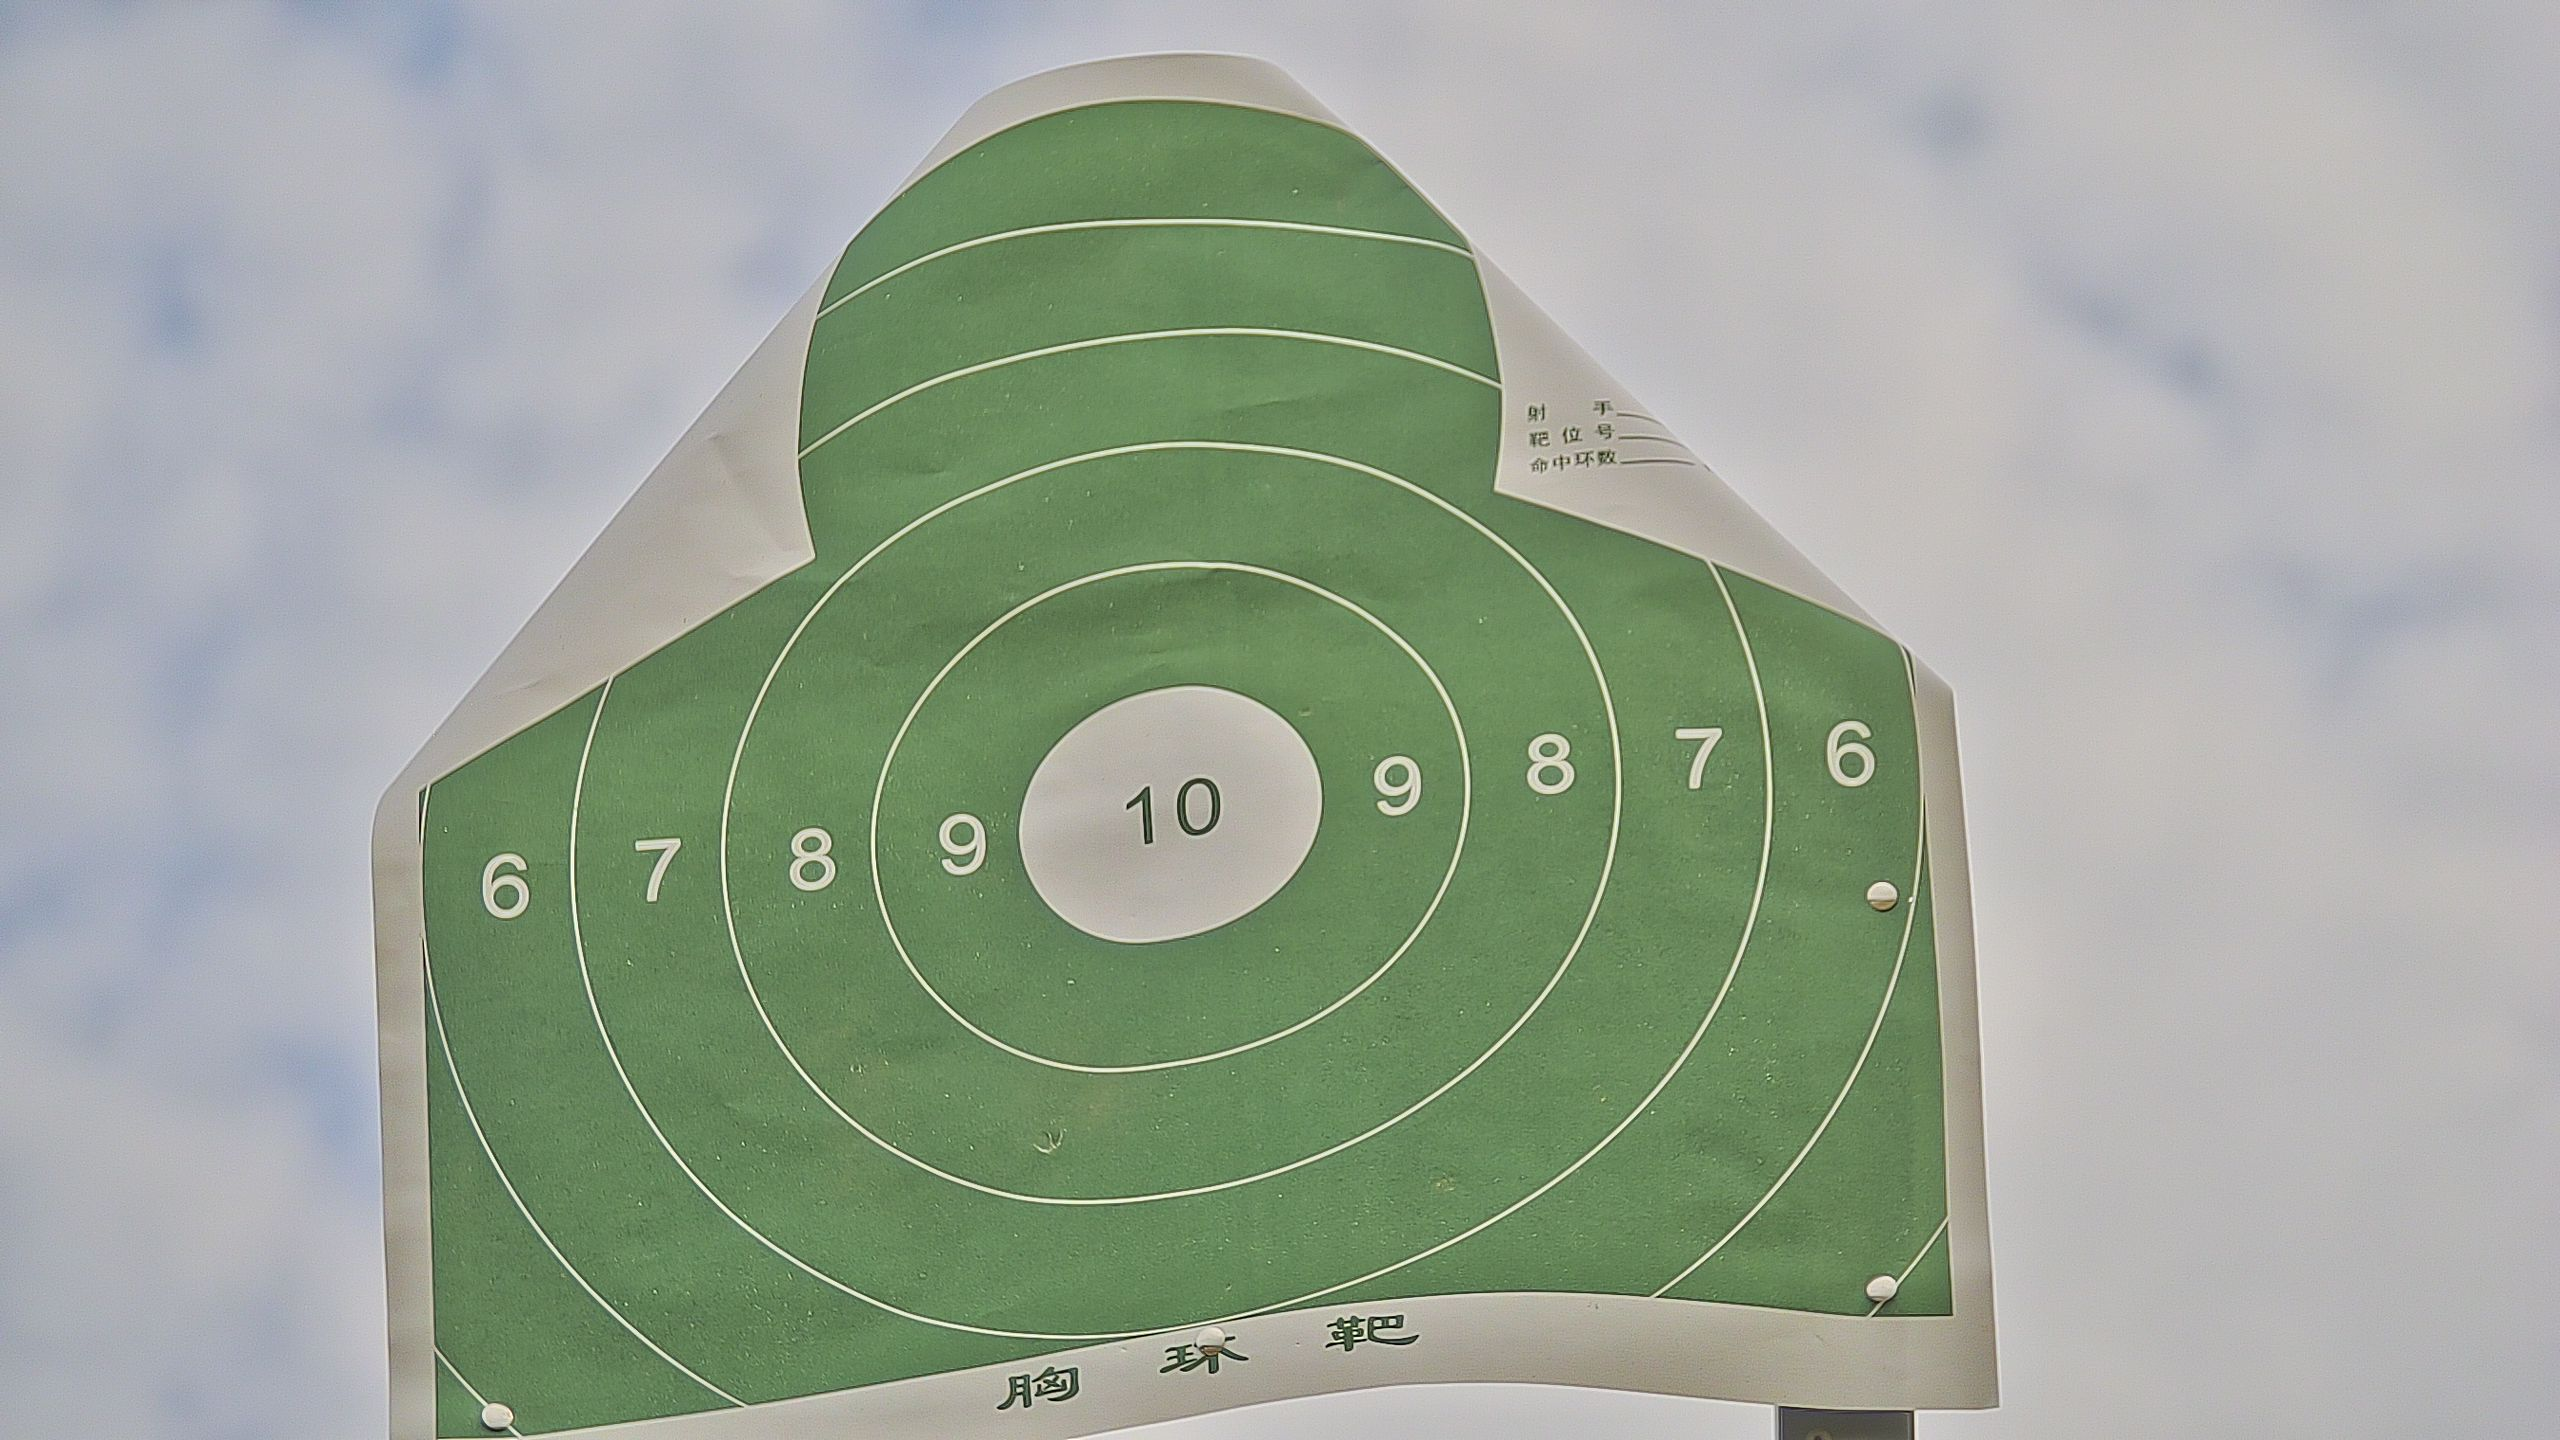kernel: (1160, 812, 1166, 818)
target: (420, 100, 1959, 1440)
ten: (1015, 682, 1326, 942)
